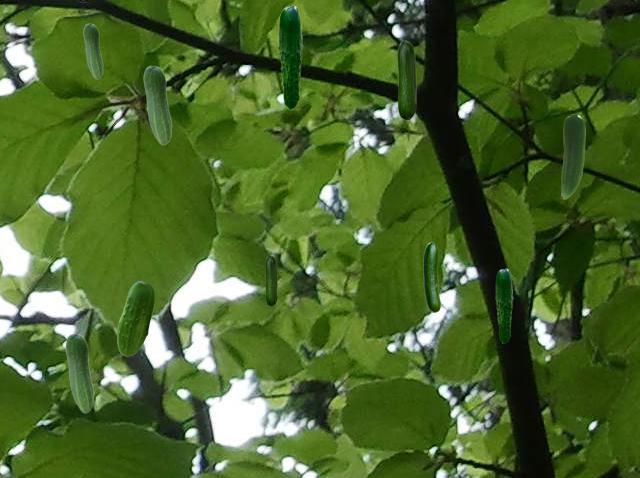cucumber: (117, 281, 153, 355), (278, 5, 302, 108), (143, 65, 171, 144), (65, 333, 93, 412), (561, 114, 584, 198), (397, 40, 415, 119), (495, 268, 512, 342), (423, 242, 439, 311), (83, 23, 102, 78), (265, 255, 276, 305)
